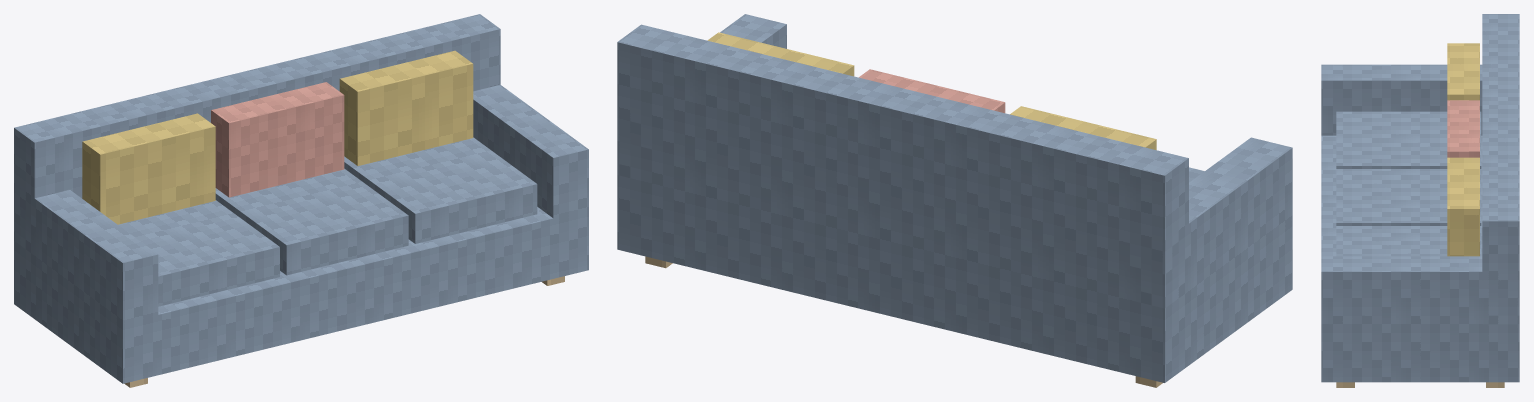
Rendered from pixel-modern-apartments-sofa-three-seat-7a3ef0b2__29819.glb.
3 views of the same model, side by side, from view 1: azimuth 30°, elevation 25°; view 2: azimuth 150°, elevation 25°; view 3: azimuth 270°, elevation 25° (orthographic). The views are drawn at different scales.
Parts seen in each view (by area): view 1: sofa-three-seat; view 2: sofa-three-seat; view 3: sofa-three-seat.
Boxes of the visible parts, x1=… form: sofa-three-seat: x1=14, y1=14, x2=588, y2=387; sofa-three-seat: x1=617, y1=14, x2=1292, y2=387; sofa-three-seat: x1=1321, y1=14, x2=1519, y2=387.
Bounding box in the file's own units: 2.1 × 0.82 × 0.8499.
4 materials, 4 textured.
